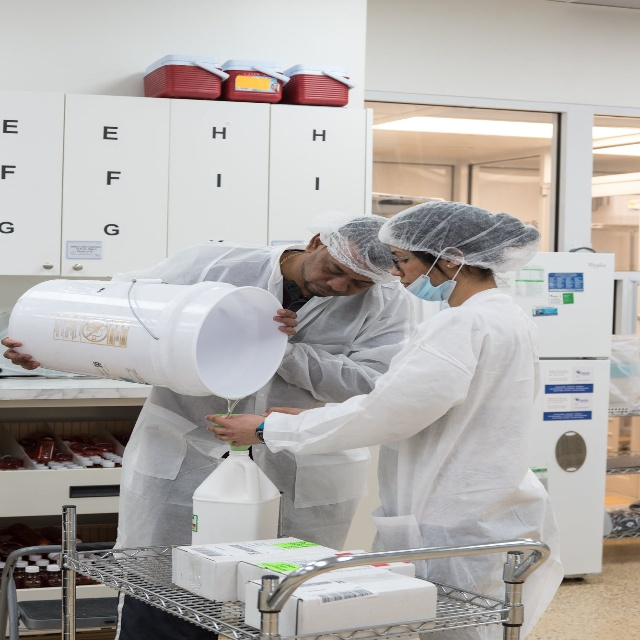Mascara: (402, 242, 464, 305)
Sin_guantes: (203, 411, 265, 448), (0, 332, 40, 373), (271, 304, 300, 339), (263, 405, 305, 413)
